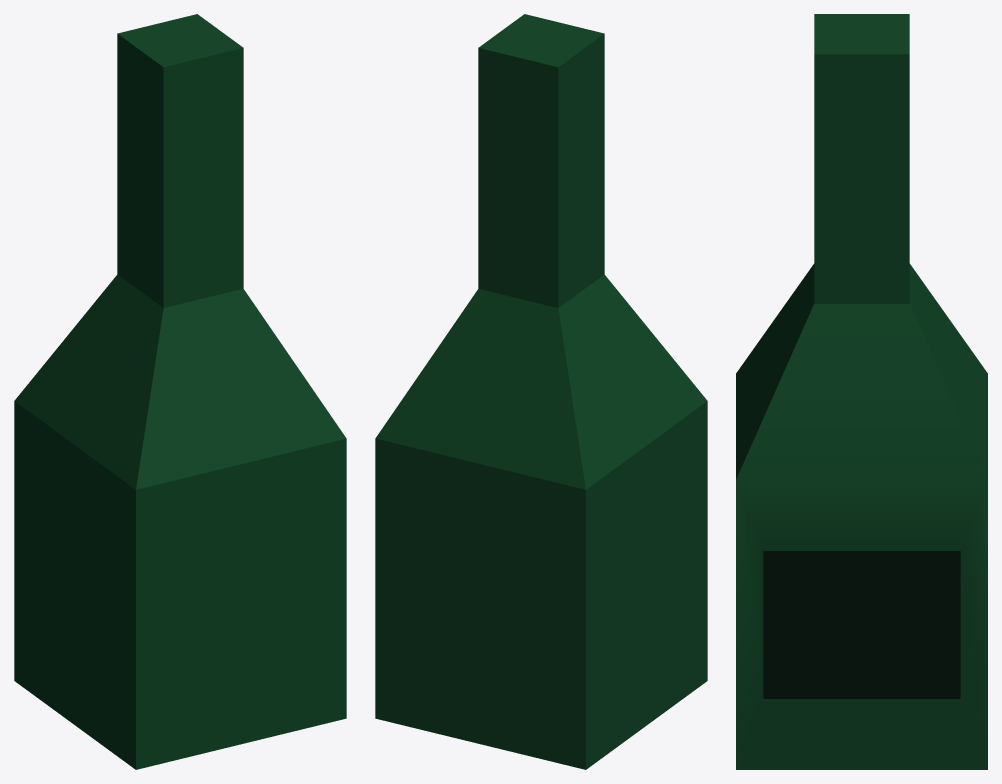
The model's file is Bottle_champagne.fbx.
3 views of the same model, side by side, from view 1: azimuth 30°, elevation 25°; view 2: azimuth 150°, elevation 25°; view 3: azimuth 270°, elevation 25° (orthographic). The views are drawn at different scales.
Visible parts, largest first — view 1: pCube6; view 2: pCube6; view 3: pCube6.
Boxes of the visible parts, x1,y1,x2,y2 form: pCube6: [14, 14, 346, 769]; pCube6: [375, 14, 707, 769]; pCube6: [736, 14, 987, 769].
Size of the model in its own units: 47.55 by 142 by 47.55.
